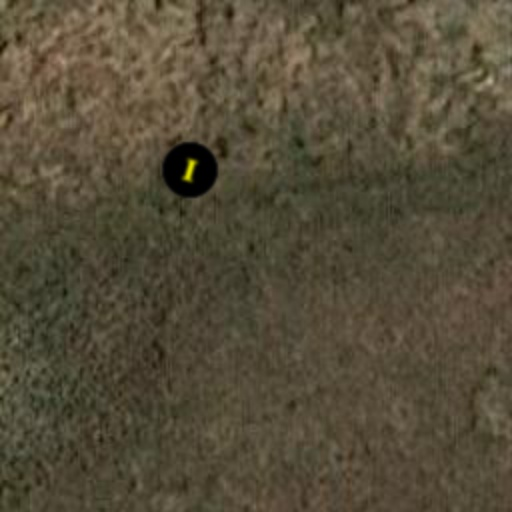circle: (154, 134, 226, 206)
